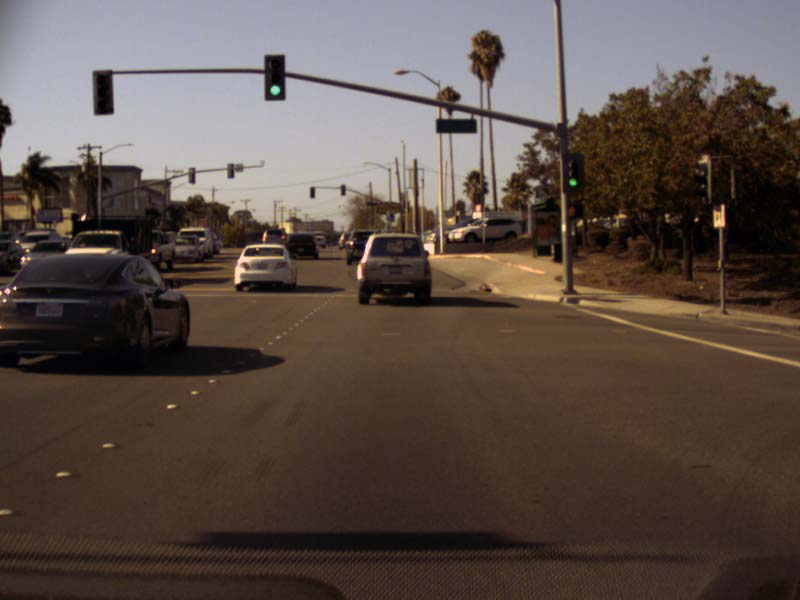Green: (263, 54, 286, 100), (562, 153, 584, 193), (389, 212, 394, 221)
